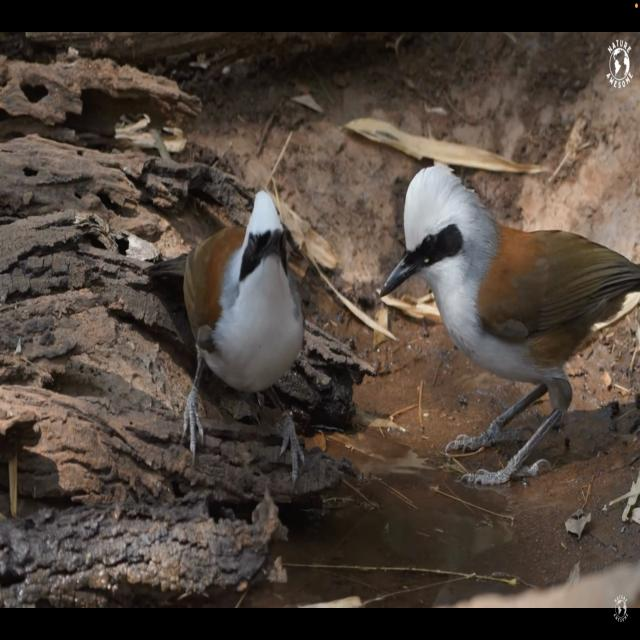beak: (381, 250, 417, 299), (265, 229, 281, 252)
bird: (380, 151, 640, 482), (142, 179, 399, 458)
